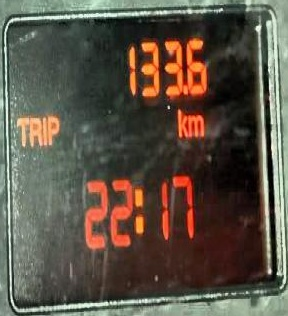-: (181, 83, 188, 94)
1: (160, 178, 169, 239), (128, 44, 135, 96)
2: (83, 178, 107, 248), (109, 177, 132, 245)
3: (140, 41, 159, 96), (163, 39, 181, 94)
6: (184, 37, 206, 94)
7: (171, 174, 194, 237)
X: (133, 187, 143, 235), (28, 116, 42, 146), (46, 113, 59, 144), (187, 113, 203, 137), (16, 115, 28, 147), (177, 106, 186, 137), (41, 115, 46, 144)
